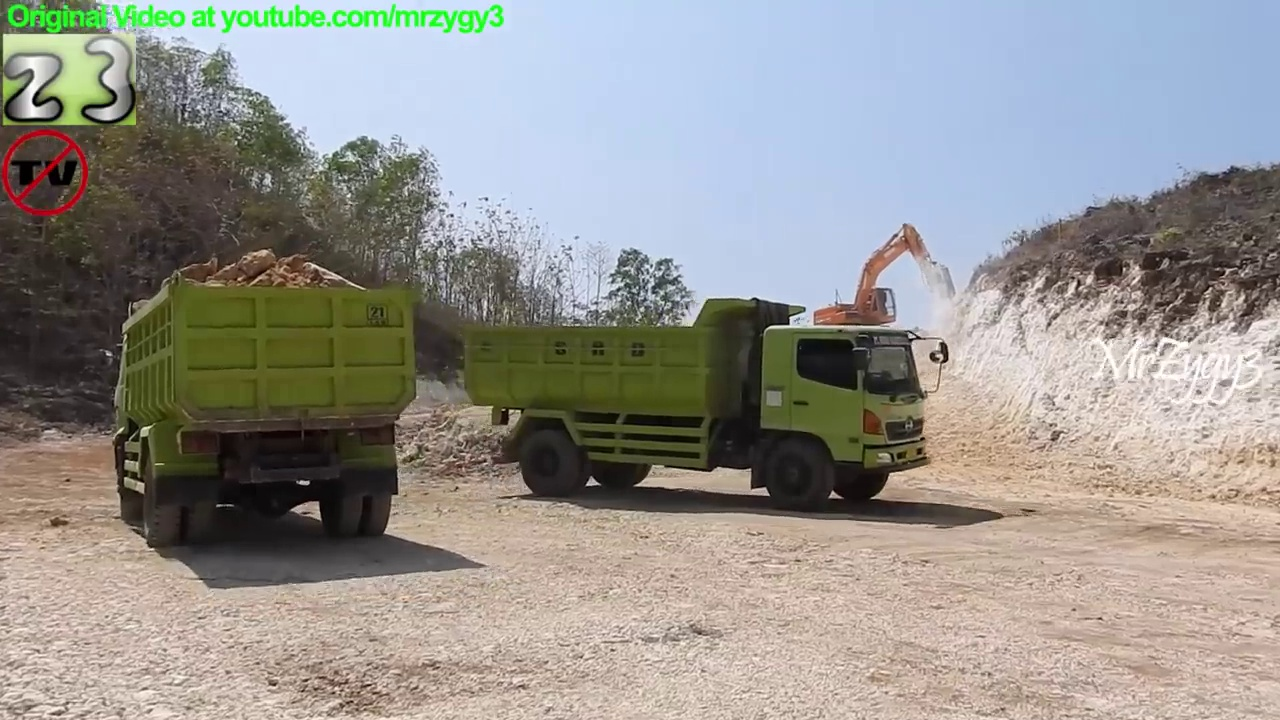excavator: (805, 217, 961, 365)
truck: (457, 292, 955, 517), (92, 264, 422, 554)
